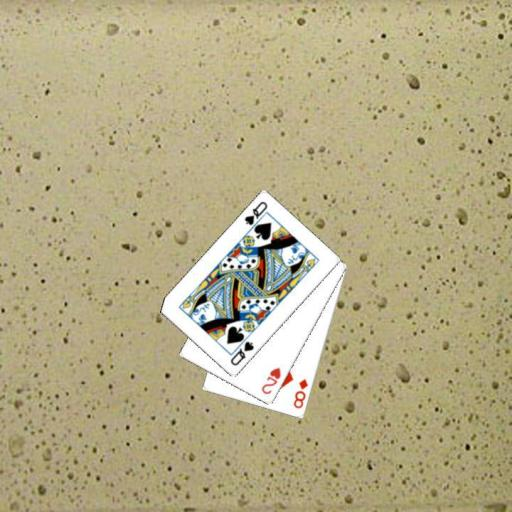2H: (258, 364, 282, 396)
8D: (290, 376, 309, 411)
QS: (227, 339, 255, 368), (241, 199, 269, 228)
